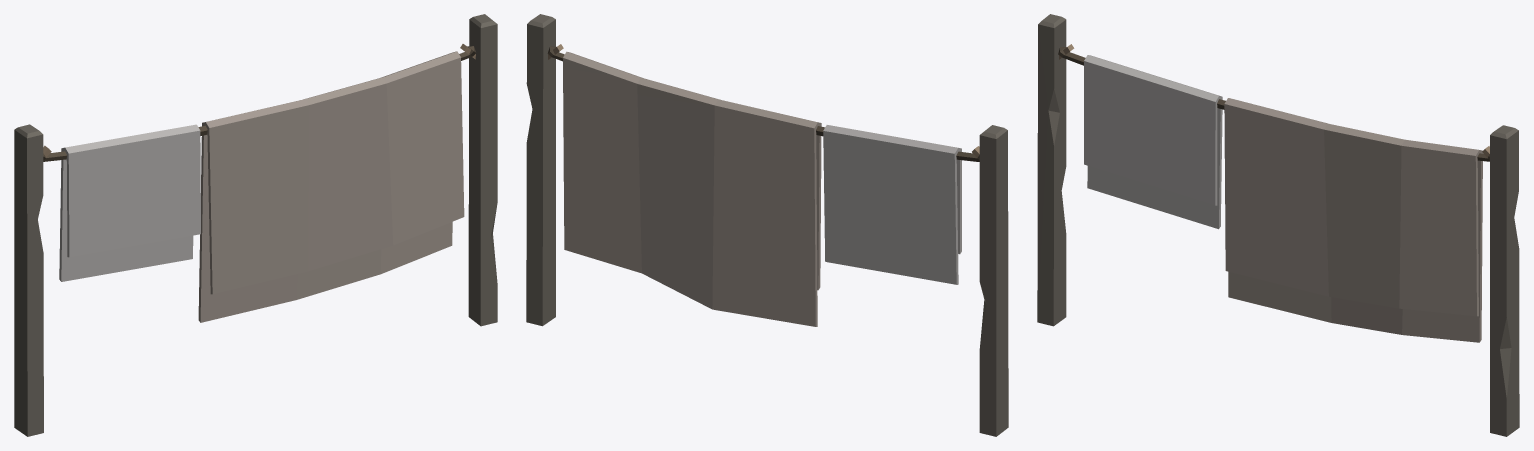
File: SM_Prop_Washingline_Small_02.fbx
The picture shows the model from 3 angles, left to right: view 1: azimuth 30°, elevation 25°; view 2: azimuth 150°, elevation 25°; view 3: azimuth 330°, elevation 25°; orthographic projection.
Visible parts, largest first — view 1: SM_Prop_Washingline_Small_02, SM_Prop_Washingline_Small_Poles_02; view 2: SM_Prop_Washingline_Small_02, SM_Prop_Washingline_Small_Poles_02; view 3: SM_Prop_Washingline_Small_02, SM_Prop_Washingline_Small_Poles_02.
Part boxes in pixels (box(x1,y1,x2,y2)): SM_Prop_Washingline_Small_02: box(43, 44, 475, 322); SM_Prop_Washingline_Small_Poles_02: box(14, 14, 497, 436); SM_Prop_Washingline_Small_02: box(547, 44, 979, 326); SM_Prop_Washingline_Small_Poles_02: box(526, 14, 1008, 436); SM_Prop_Washingline_Small_02: box(1058, 44, 1489, 342); SM_Prop_Washingline_Small_Poles_02: box(1037, 14, 1519, 436).
Bounding box in the file's own units: 418 × 255 × 25.14.
